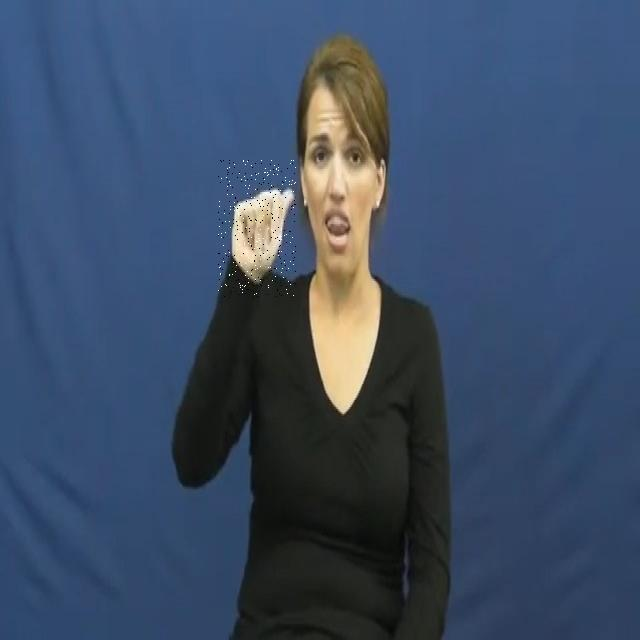lactose: (218, 160, 296, 298)
